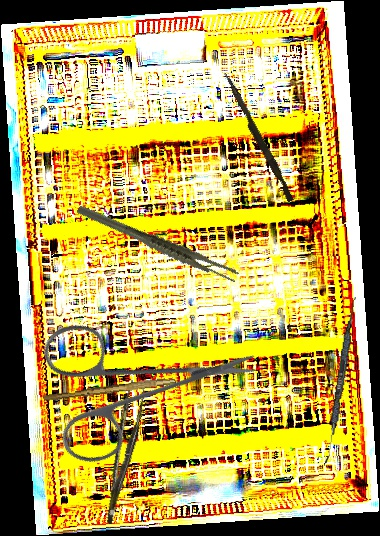Iris Scissors: (0, 253, 264, 516)
Pusher: (218, 71, 298, 203)
Scalpel Handle: (43, 373, 176, 405)
Spatula Surgical: (324, 296, 357, 467)
Tissue Forceps: (75, 178, 241, 308), (89, 379, 154, 525)
